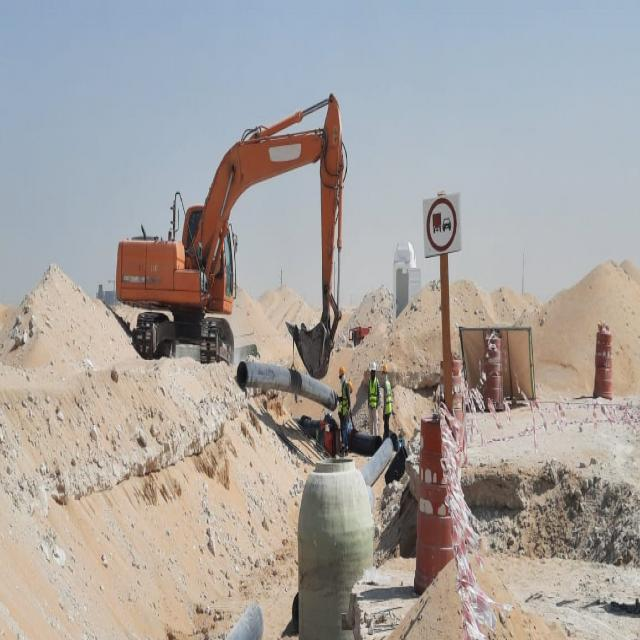Excavator: (113, 92, 350, 385)
